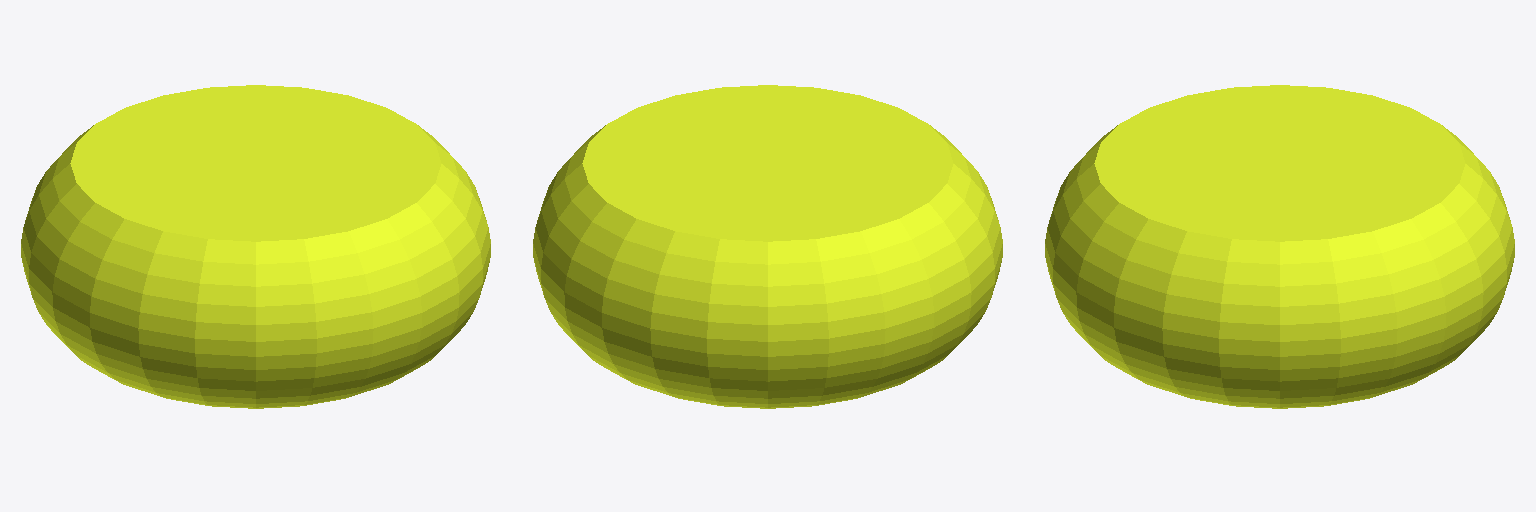
File: original-3.obj
3 renders of one model, left to right at view 1: azimuth 30°, elevation 25°; view 2: azimuth 150°, elevation 25°; view 3: azimuth 270°, elevation 25°, orthographic.
Parts seen in each view (by area): view 1: Difference/mesh6/mesh6-geometry#mesh6-geometry; view 2: Difference/mesh6/mesh6-geometry#mesh6-geometry; view 3: Difference/mesh6/mesh6-geometry#mesh6-geometry.
Part boxes in pixels (x1,y1,x2,y2): Difference/mesh6/mesh6-geometry#mesh6-geometry: (21,85,490,408); Difference/mesh6/mesh6-geometry#mesh6-geometry: (533,85,1002,408); Difference/mesh6/mesh6-geometry#mesh6-geometry: (1045,85,1514,408).
Size of the model in its own units: 1.02 by 0.4415 by 1.02.